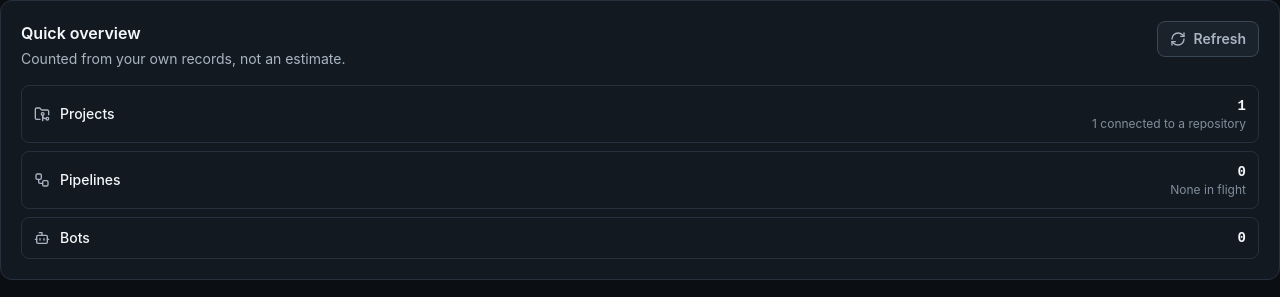
DecisionOverview › re-reads on request rather than making the person reload the page
This screenshot has width=1280, height=297.
Expected: the text "1" is shown, [1238,98,1246,114]
Click the button with aria-label "Refresh the quick overview" at (1208, 39), box [1156,21,1259,57]
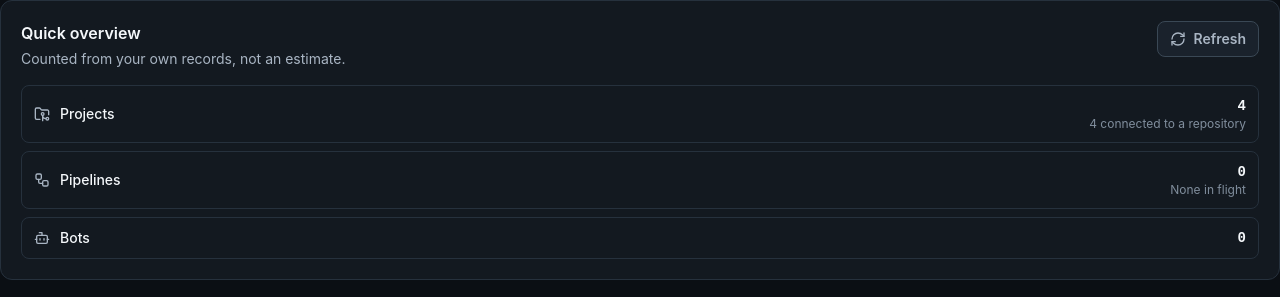
Now the text "4" is shown, box [1238,98,1246,114]
